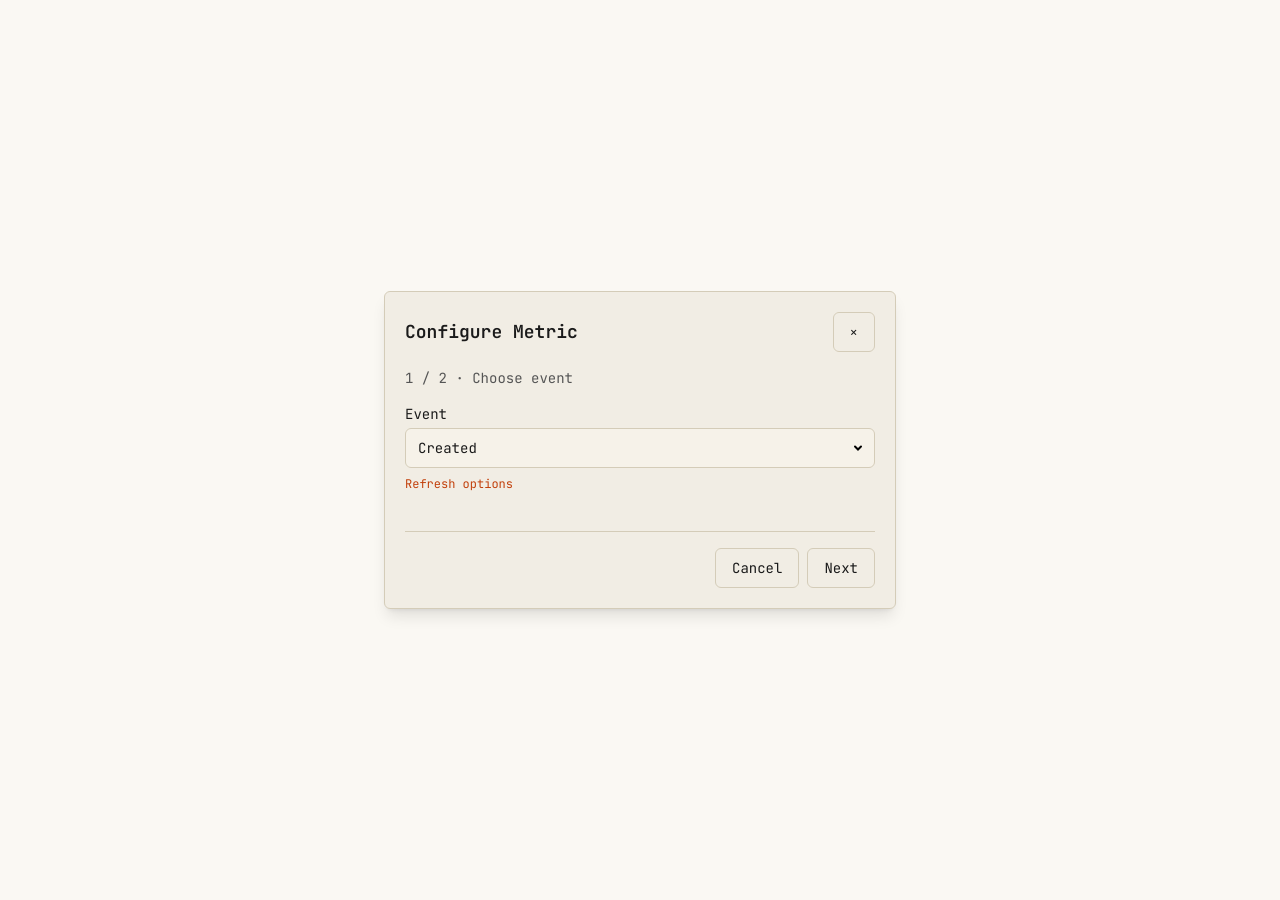
Test: dynamic selections on earlier steps are revalidated when a later dependency changes
Step 1. Click the button "Next" → x=841, y=568, box 807,548 -> 875,588
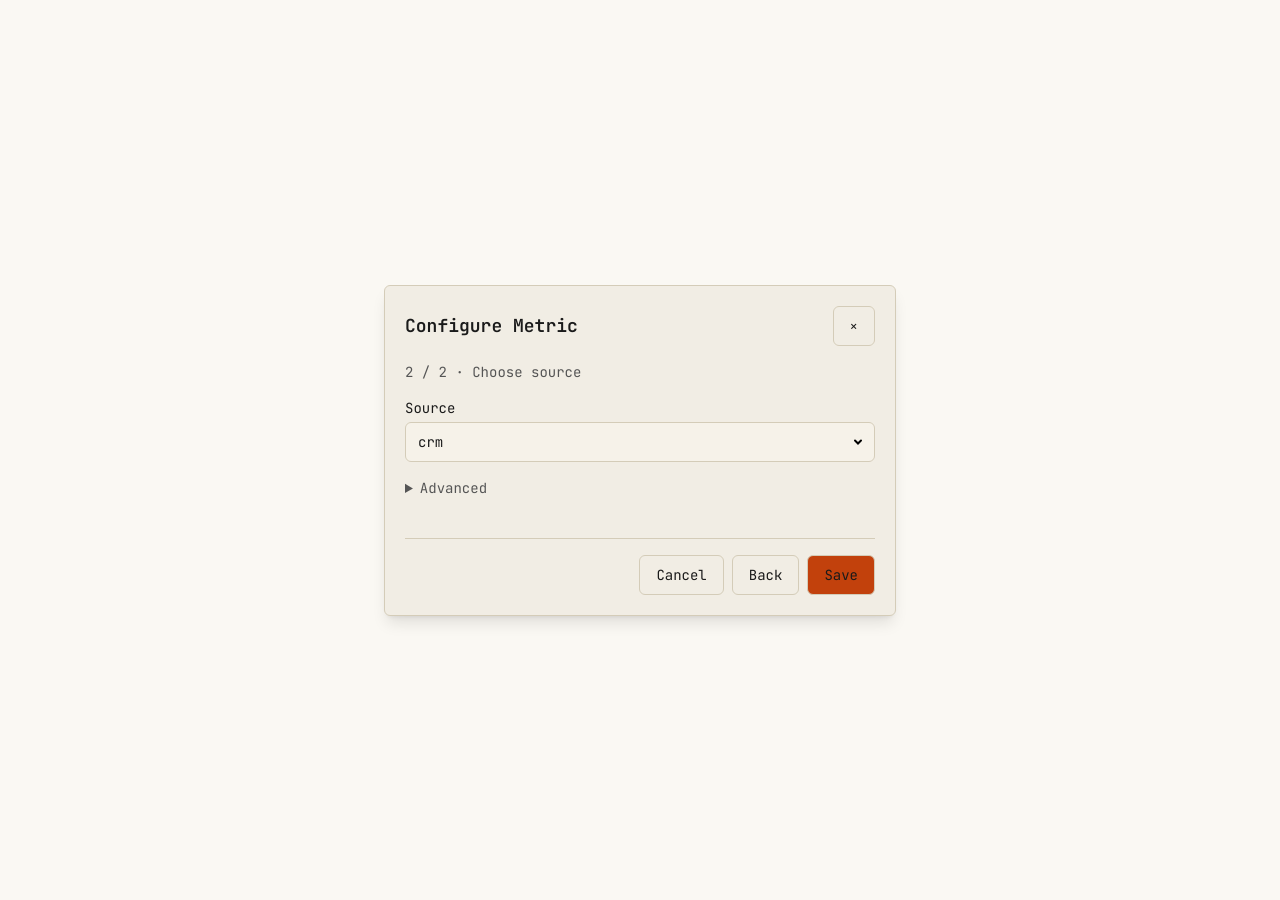
Step 2. Select "tasks" in the dropdown labelled "Source" → x=640, y=442, box 405,422 -> 875,462
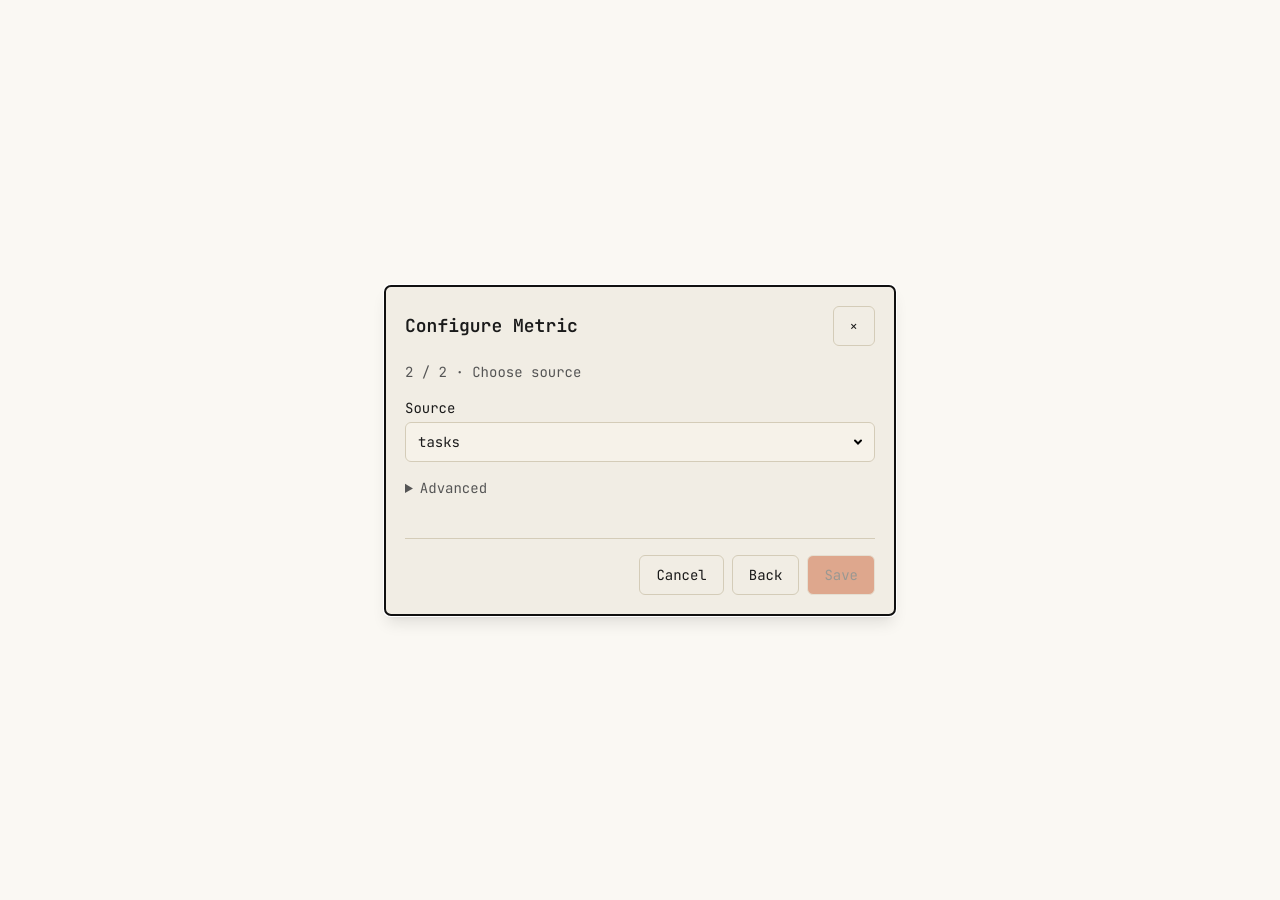
Expected: the button "Save" is disabled, 807,554 -> 875,594
Step 3. Click the button "Back" → x=766, y=574, box 732,554 -> 799,594
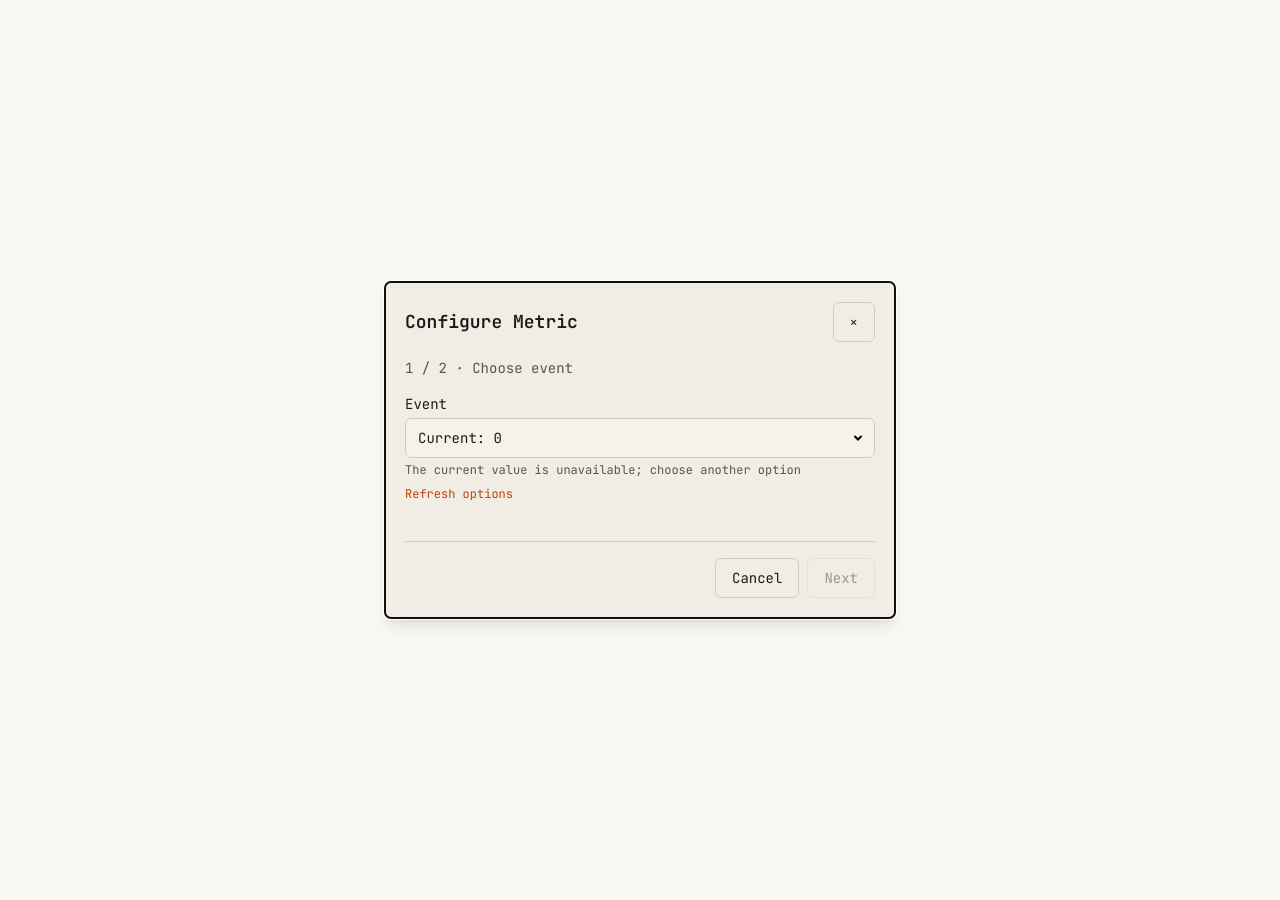
Expected: the text "The current value is unavailable; choose another option" is shown, 405,462 -> 801,478
